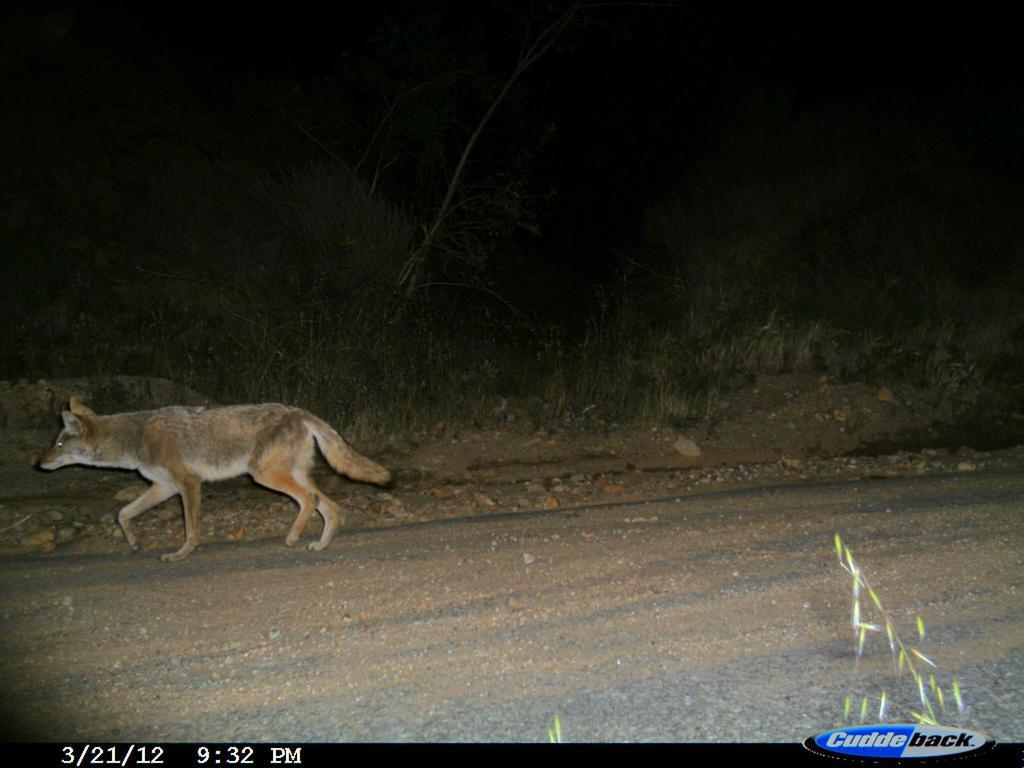coyote: (29, 378, 397, 564)
